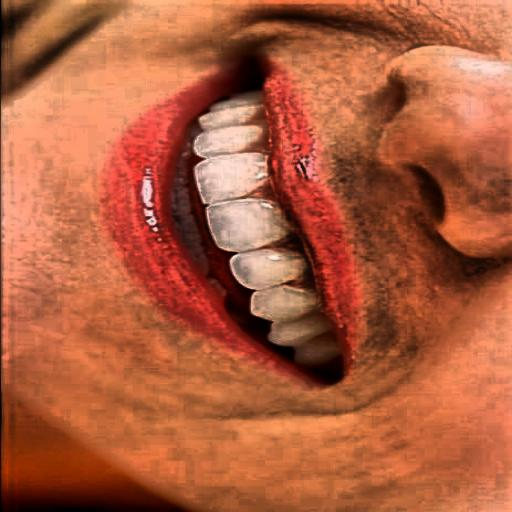Healthy: (102, 52, 378, 380)
